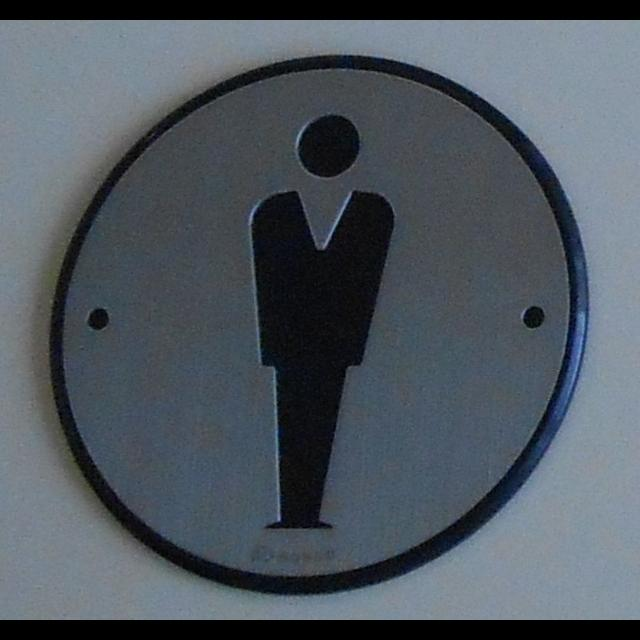wc nam: (51, 57, 587, 594)
